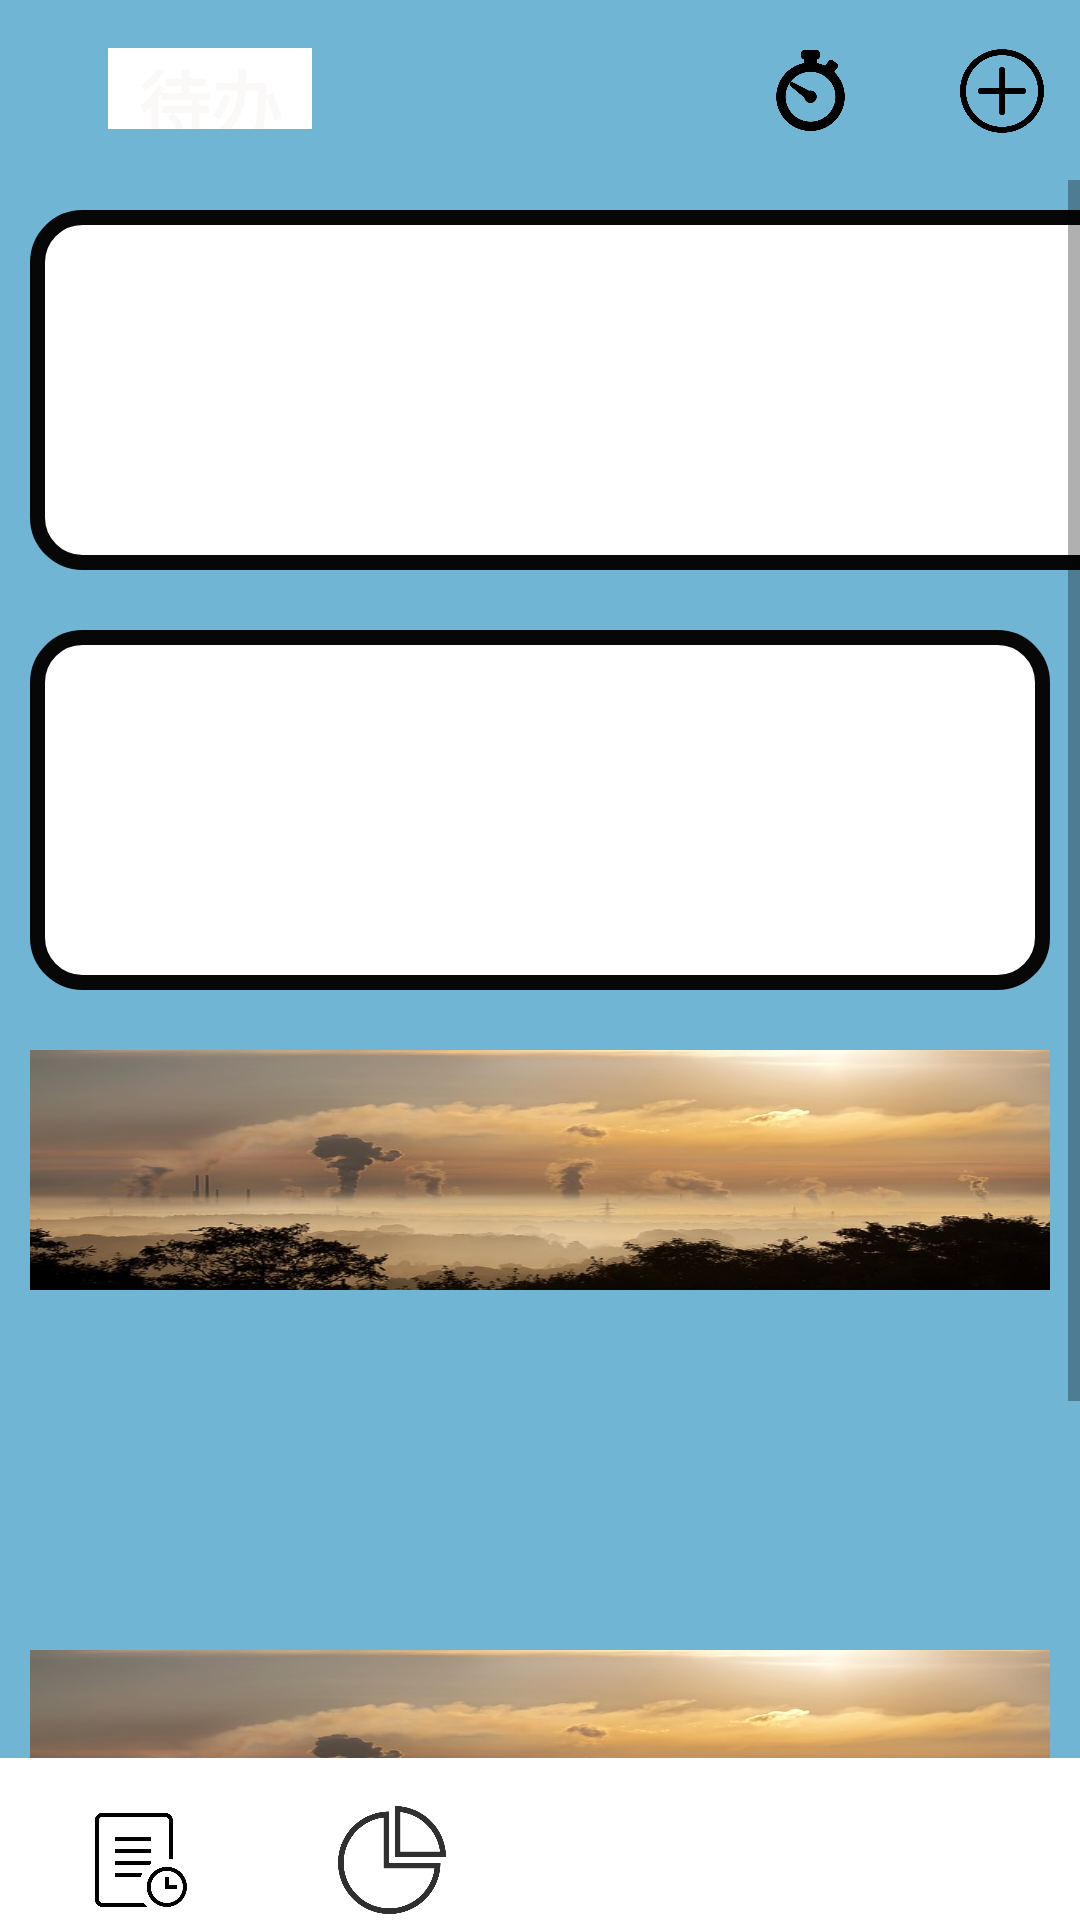

Named icons in this screenshot (1080 x 1920) and their centers, (x=x, y=y):
add: (x=1002, y=91)
plan: (x=141, y=1860)
time: (x=810, y=90)
total: (x=392, y=1860)
